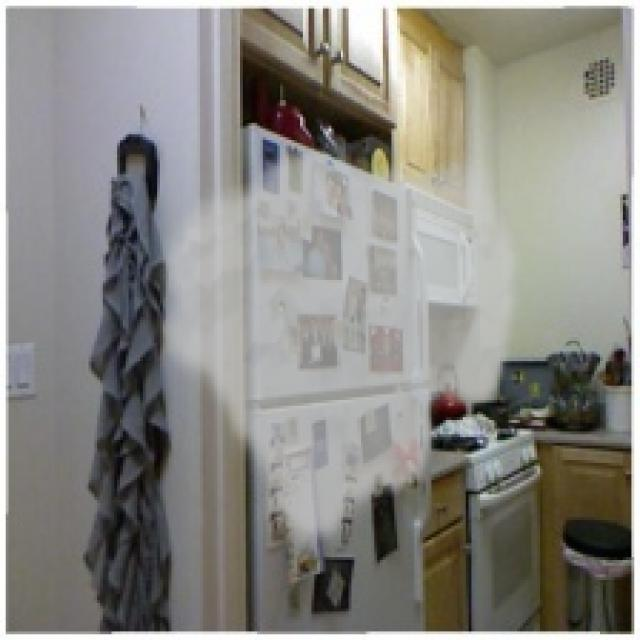smoke: (148, 143, 526, 554)
